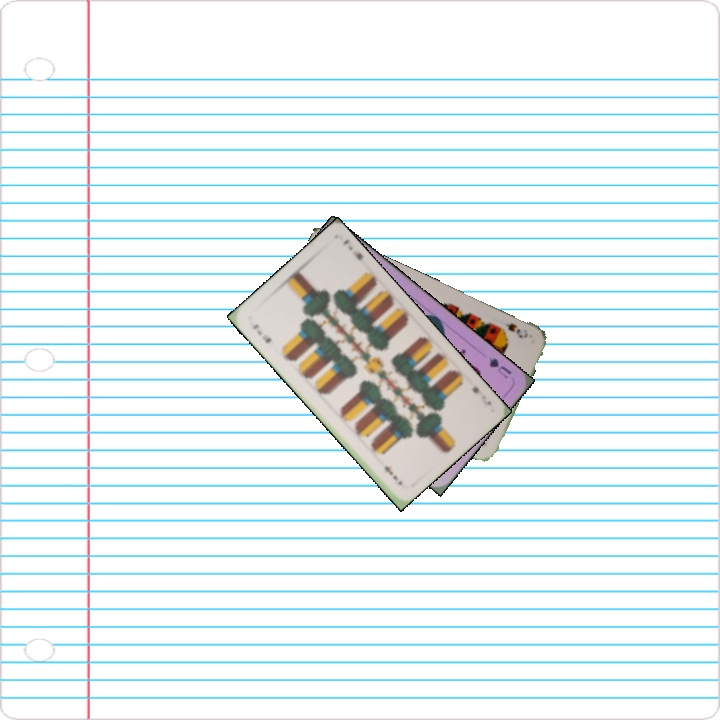E7: (468, 382, 494, 408), (248, 320, 274, 345)
GU: (485, 353, 514, 381)
S9: (500, 319, 531, 341)
